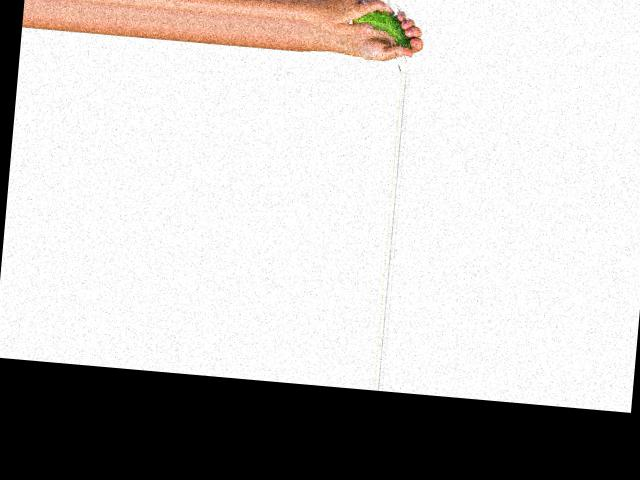cucumber: (349, 7, 414, 48)
